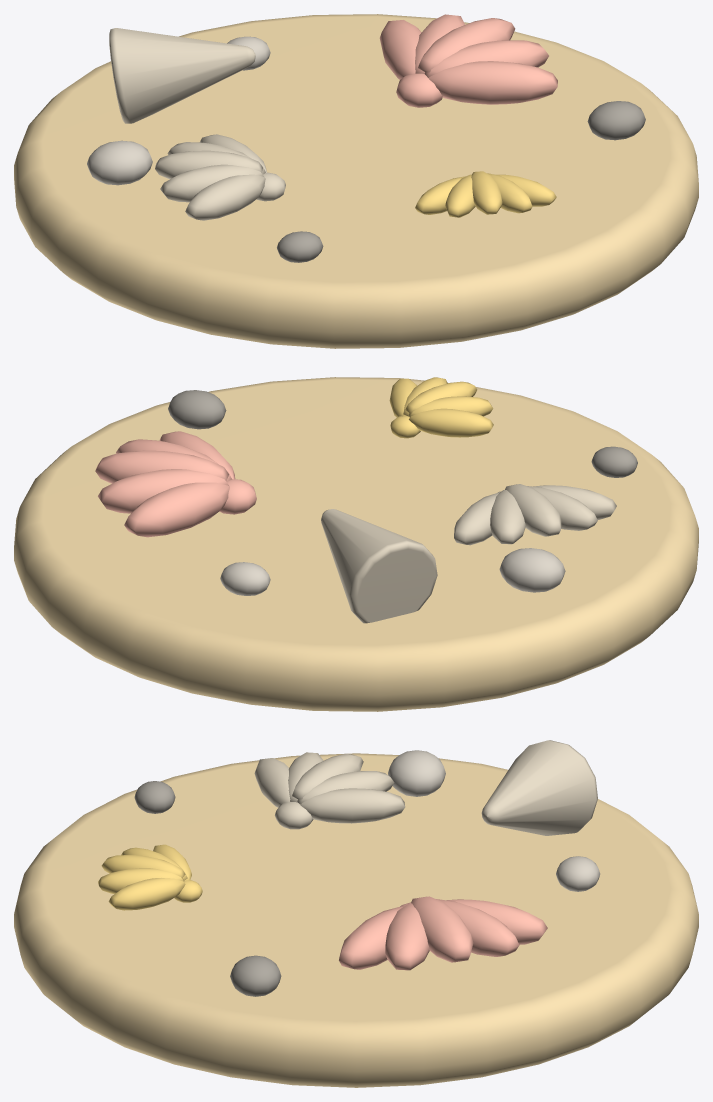
The model's file is DecorShells.fbx.
The picture shows the model from 3 angles, top to bottom: view 1: azimuth 30°, elevation 25°; view 2: azimuth 150°, elevation 25°; view 3: azimuth 270°, elevation 25°; orthographic projection.
Visible parts, largest first — view 1: DecorShells mesh; view 2: DecorShells mesh; view 3: DecorShells mesh.
Part boxes in pixels (<box>): DecorShells mesh: <box>14,14,698,348</box>; DecorShells mesh: <box>14,377,698,711</box>; DecorShells mesh: <box>14,740,698,1087</box>.
Bounding box in the file's own units: 0.34 × 0.0774 × 0.34.
